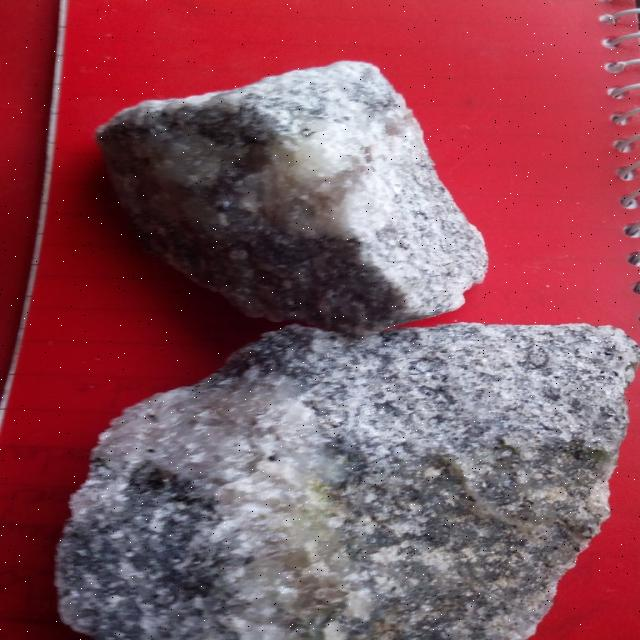Igneous: (34, 319, 634, 636), (80, 64, 488, 308)
